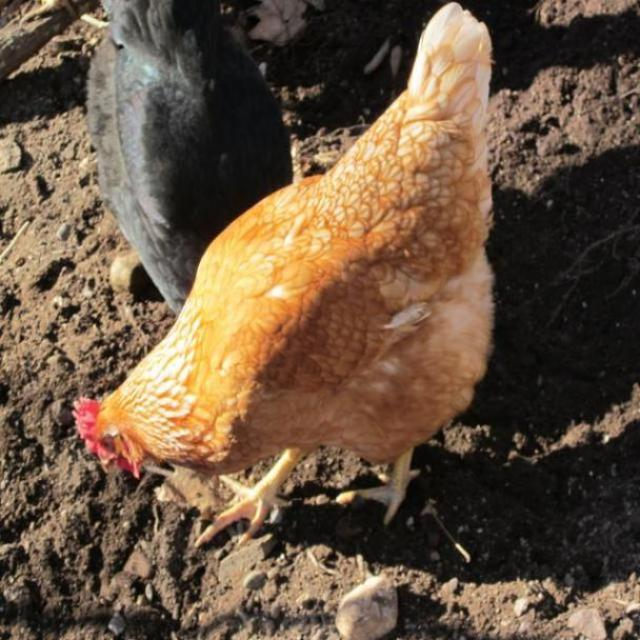Chicken: (86, 2, 500, 498)
